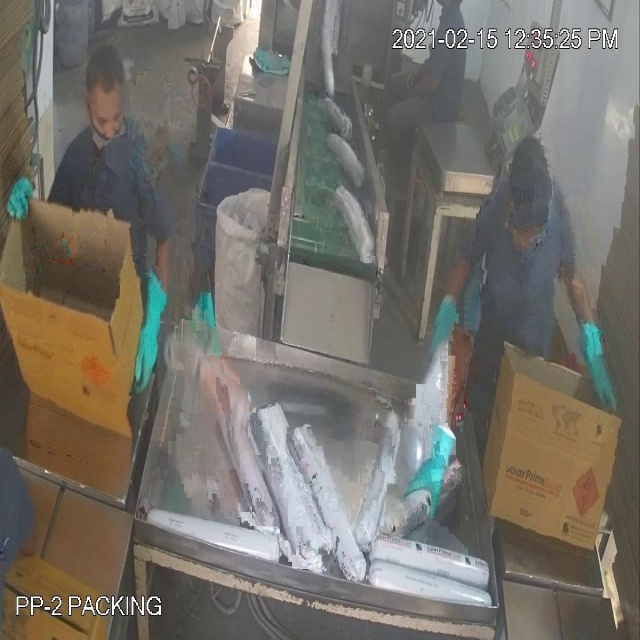Guantes: (117, 259, 169, 407), (396, 420, 460, 528), (572, 315, 621, 420)
